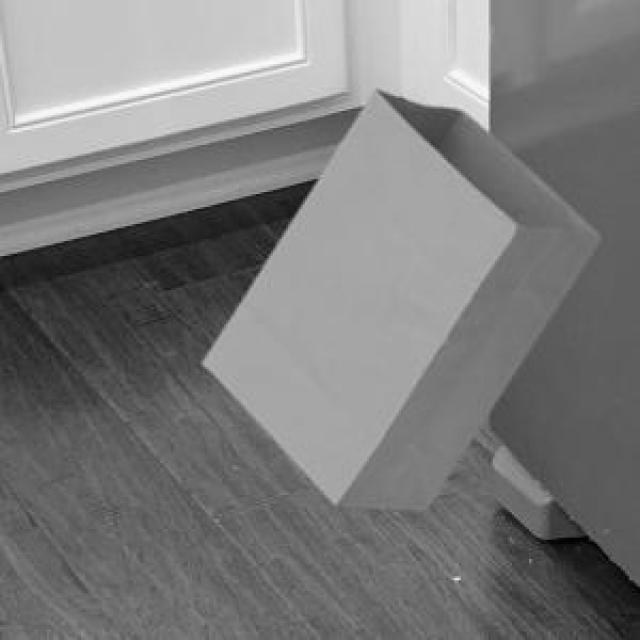paper: (198, 85, 595, 506)
